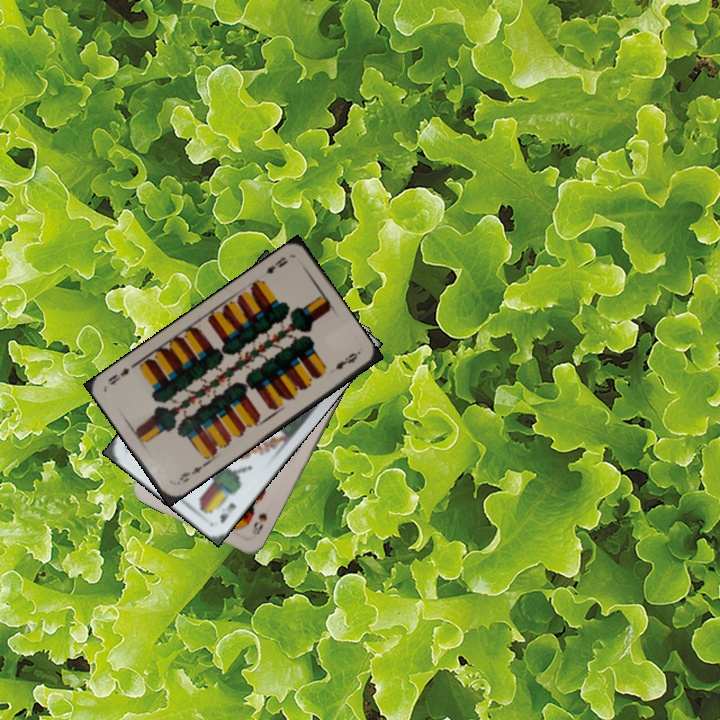E9: (173, 459, 208, 487), (262, 252, 291, 276)
EK: (215, 498, 239, 525)
S8: (248, 509, 270, 537)
